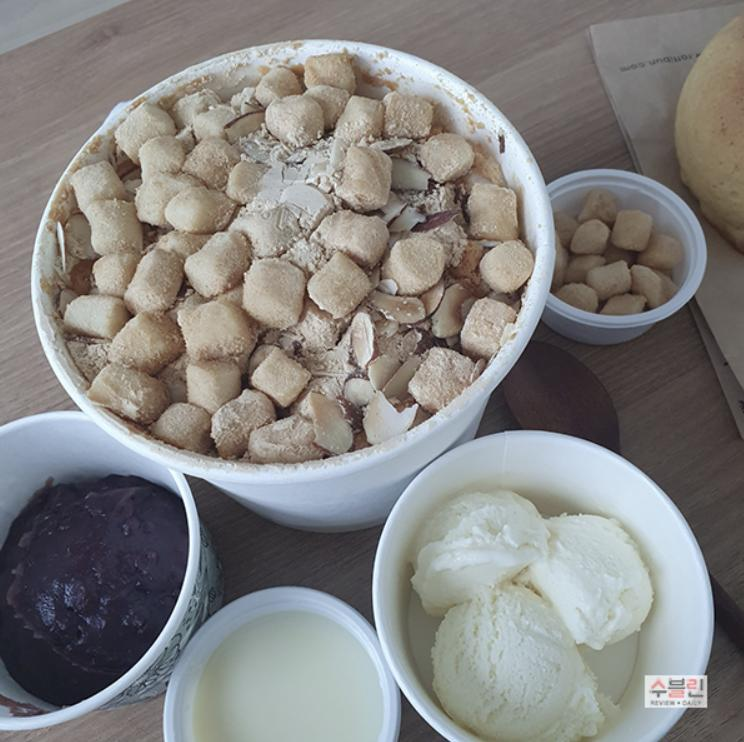Lunch Box: (32, 41, 554, 530), (373, 431, 712, 741), (0, 412, 223, 729), (543, 170, 706, 343)
cup: (164, 587, 399, 741)
